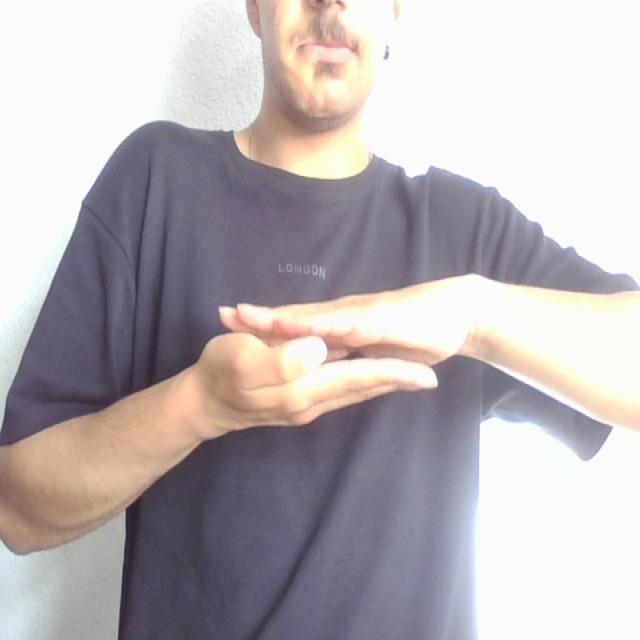Arkadas: (174, 254, 505, 442)
